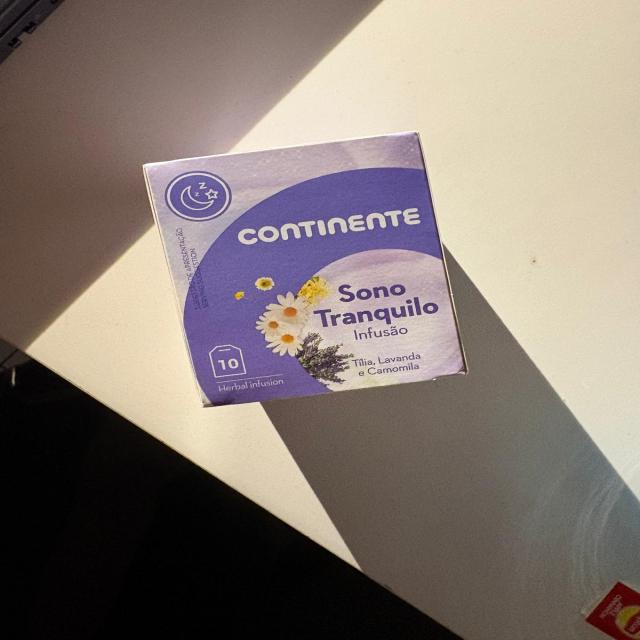good_package: (147, 133, 465, 406)
